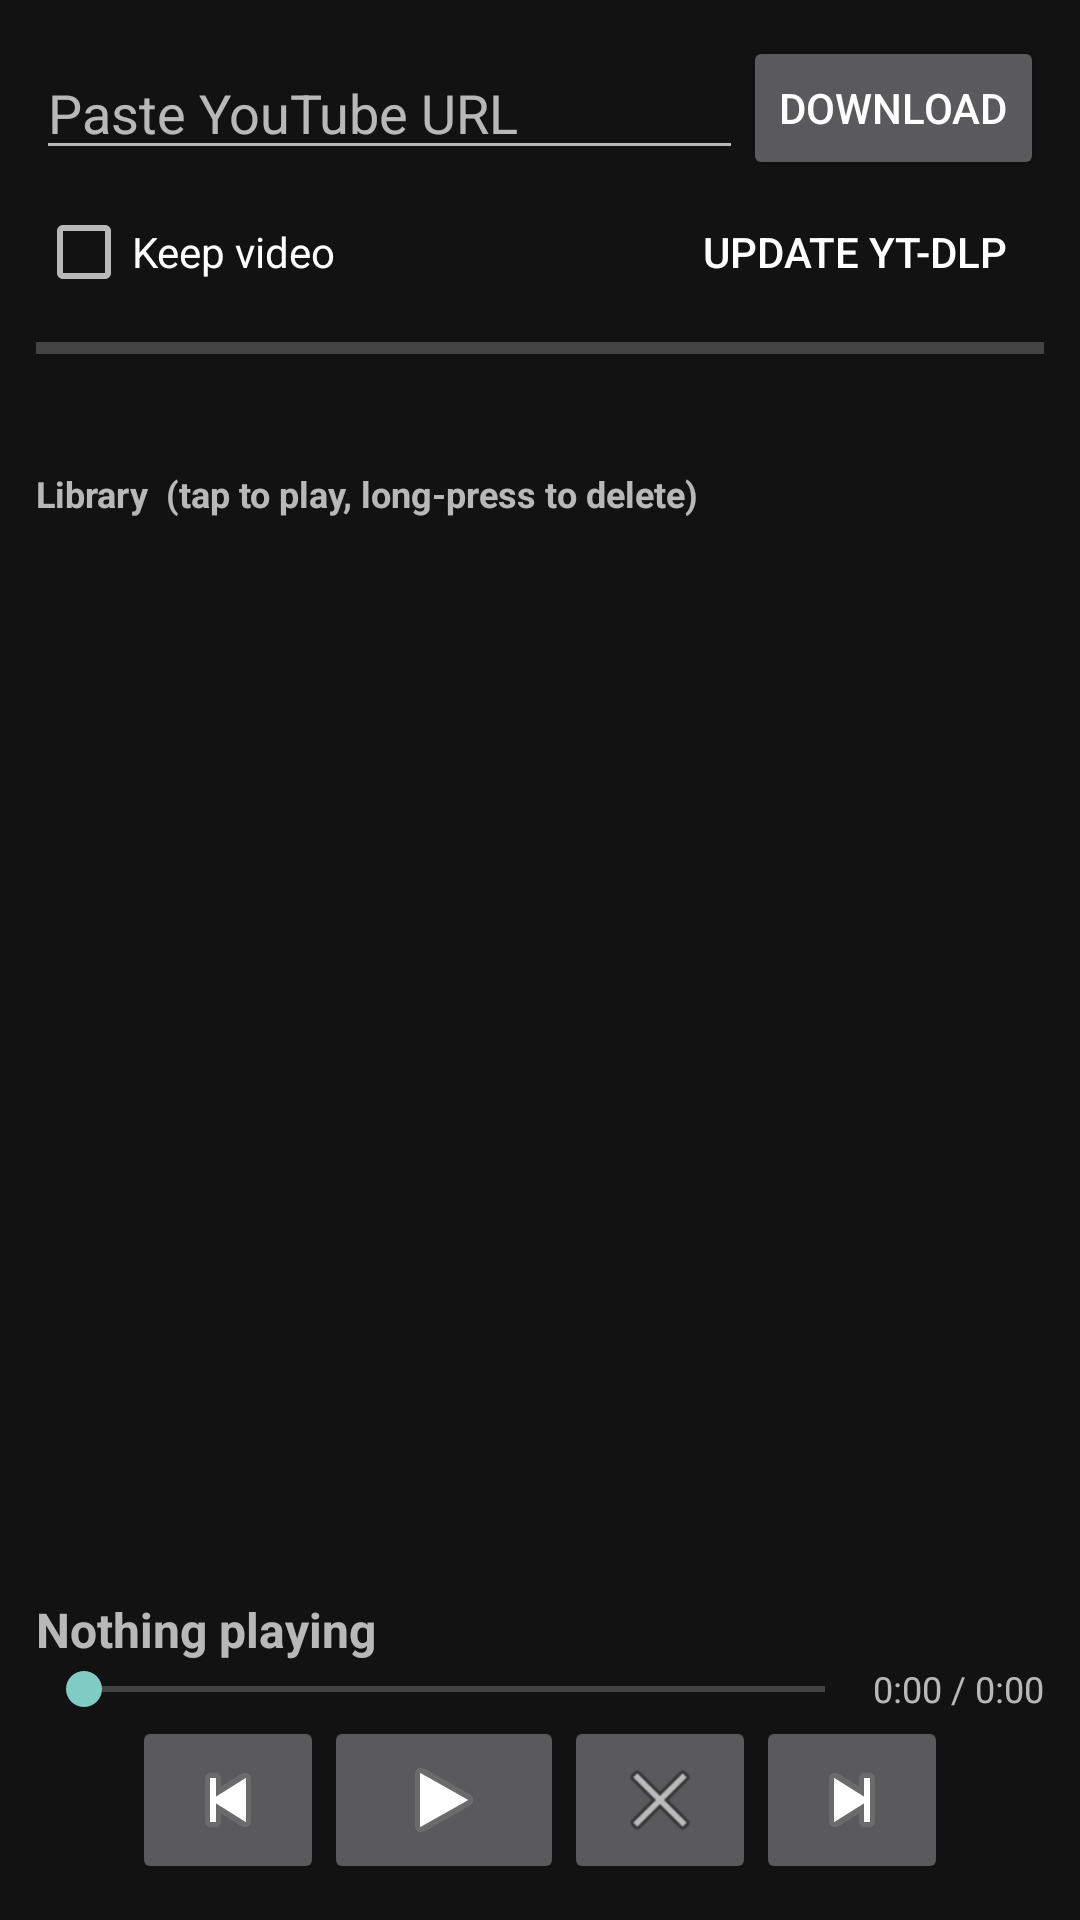

Icon click points for this 1080px×1920px phone screenshot, format (x=x, y=y):
Next: (x=852, y=1800)
Play or pause: (x=444, y=1800)
Previous: (x=228, y=1800)
Stop: (x=660, y=1800)
